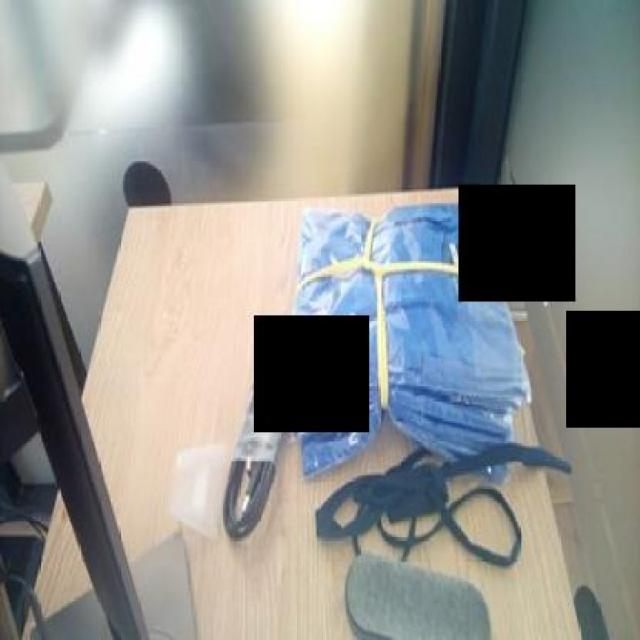plastic bag: (262, 198, 548, 517)
